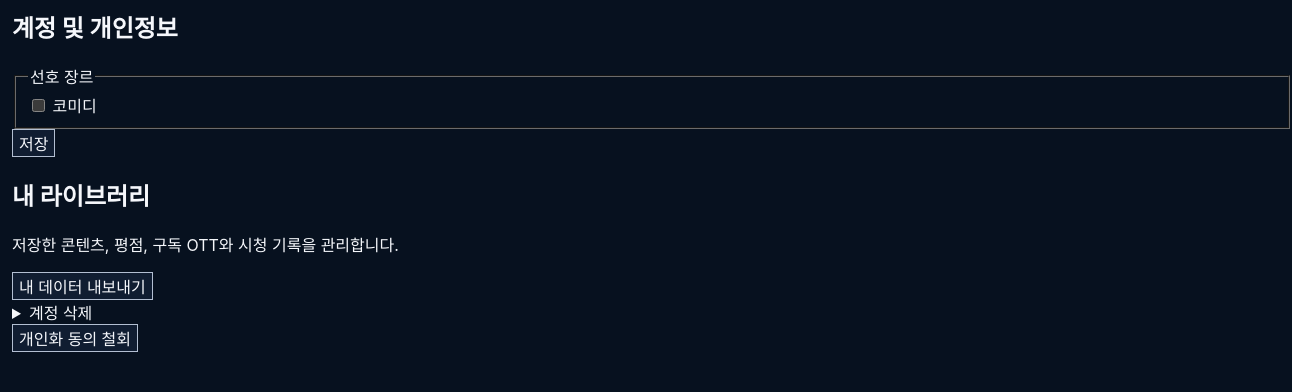
withdraws consent
Click the button "개인화 동의 철회": (75, 338) left=12, top=324, right=138, bottom=352
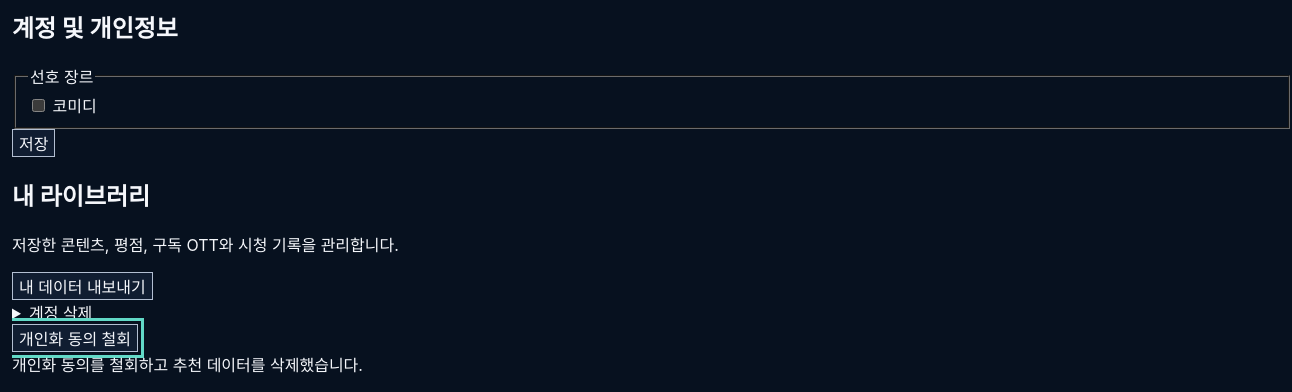
Check: the message shows "추천 데이터를 삭제", box left=12, top=355, right=363, bottom=375
